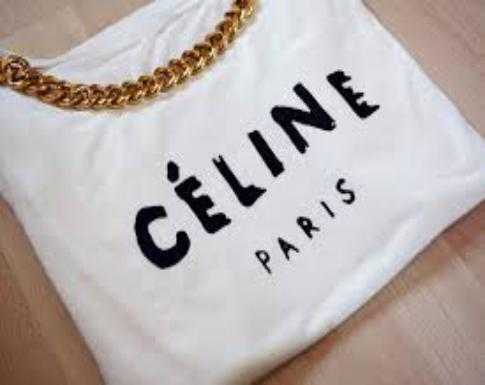CELINE: (132, 63, 382, 273)
